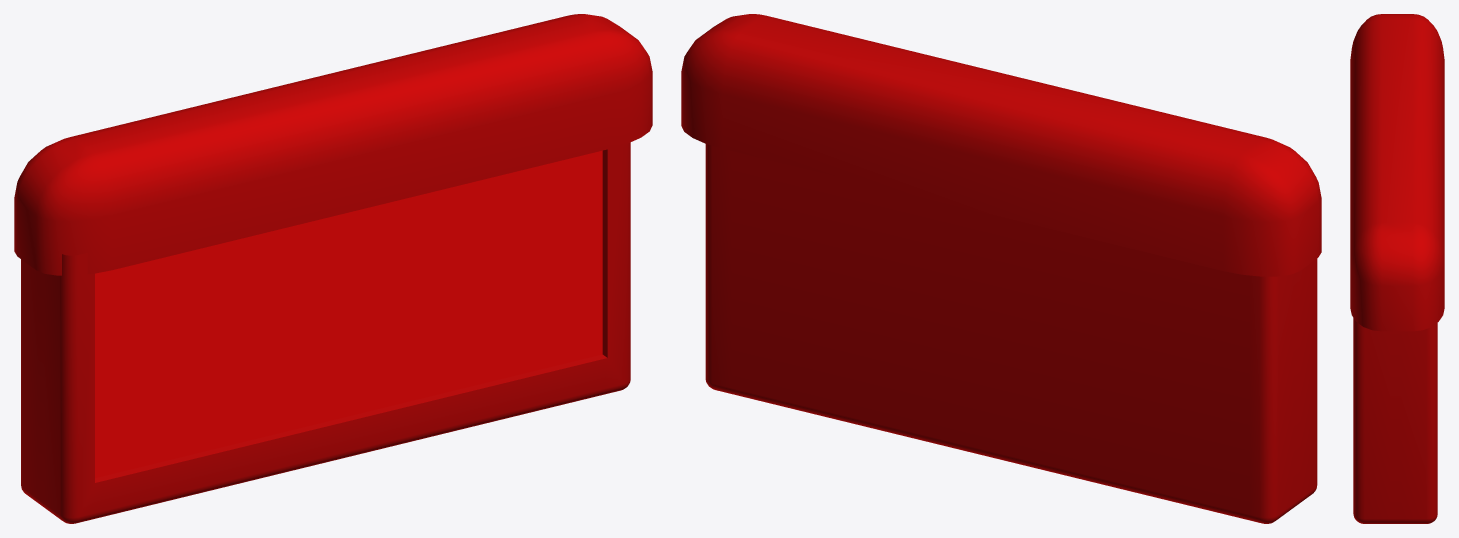
Rendered from fire red.fbx.
The picture shows the model from 3 angles, left to right: view 1: azimuth 30°, elevation 25°; view 2: azimuth 150°, elevation 25°; view 3: azimuth 270°, elevation 25°; orthographic projection. The views are drawn at different scales.
Visible parts, largest first — view 1: Cube, Cube_1; view 2: Cube, Cube_1; view 3: Cube_1, Cube.
Boxes of the visible parts, left/top/right/bottom form: Cube: left=21, top=142, right=630, bottom=523; Cube_1: left=14, top=14, right=652, bottom=275; Cube: left=705, top=144, right=1317, bottom=523; Cube_1: left=681, top=14, right=1321, bottom=276; Cube_1: left=1350, top=14, right=1444, bottom=331; Cube: left=1353, top=318, right=1437, bottom=523.
Size of the model in its own units: 330 by 187 by 52.87.
